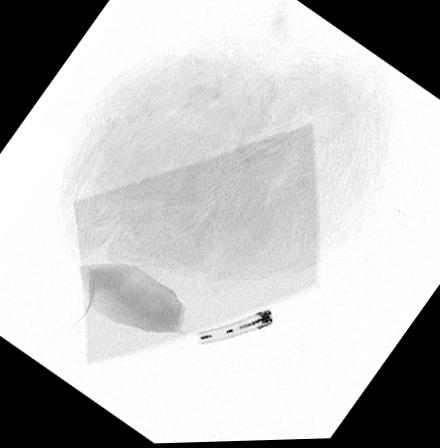Lighter: (199, 310, 272, 345)
